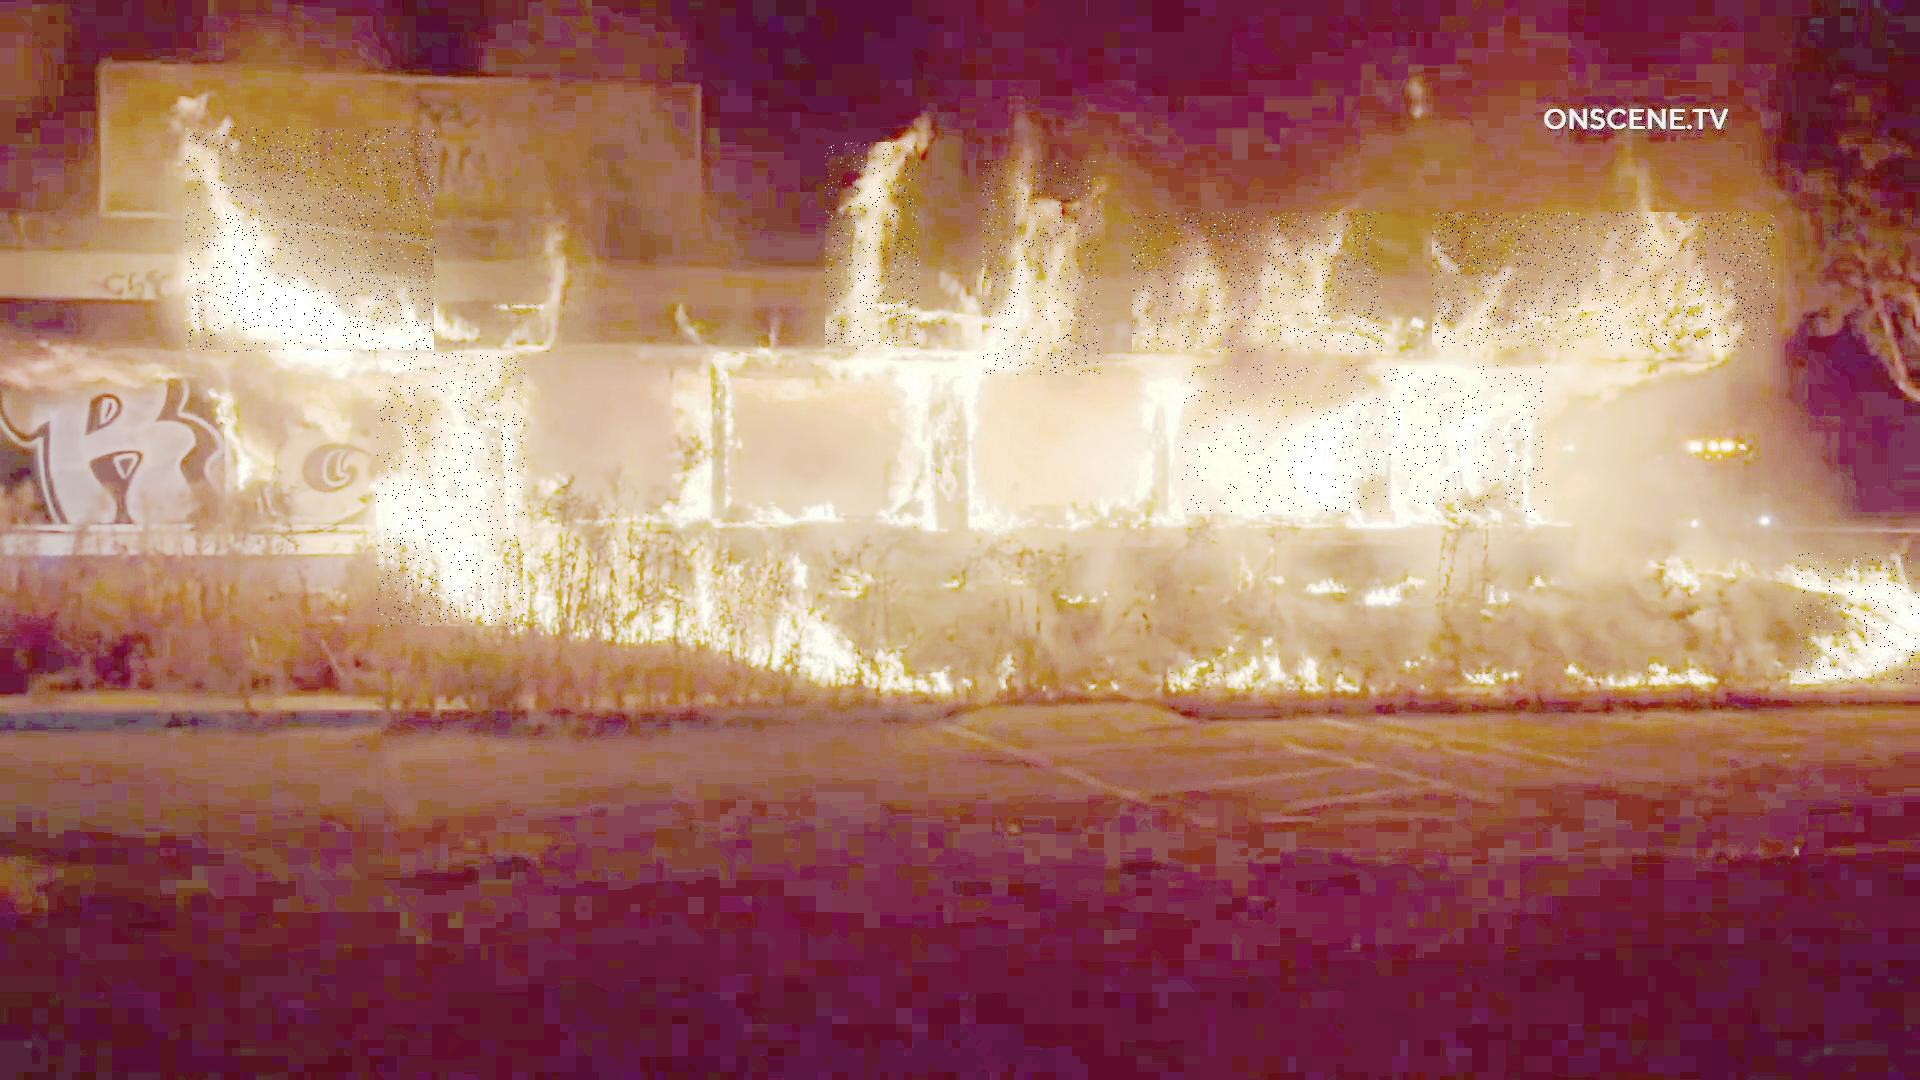fire: (186, 128, 436, 353), (1183, 365, 1548, 513), (1433, 212, 1775, 348), (377, 353, 526, 626), (1133, 212, 1383, 353), (982, 160, 1101, 375), (825, 142, 920, 351), (1796, 553, 1920, 684)
